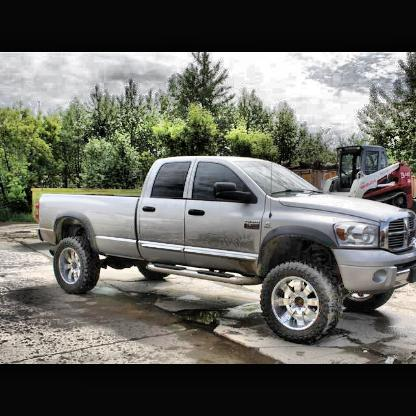Dodge Ram Pickup 3500 Quad Cab 2009: (37, 155, 415, 348)
